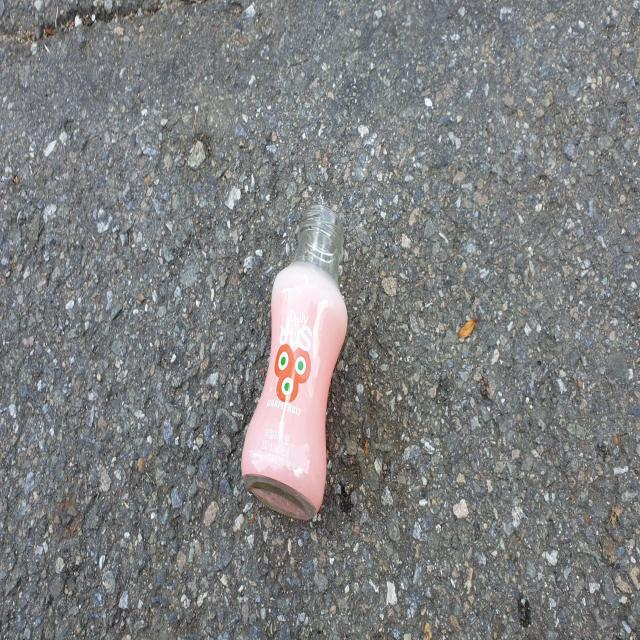glass: (241, 204, 348, 521)
